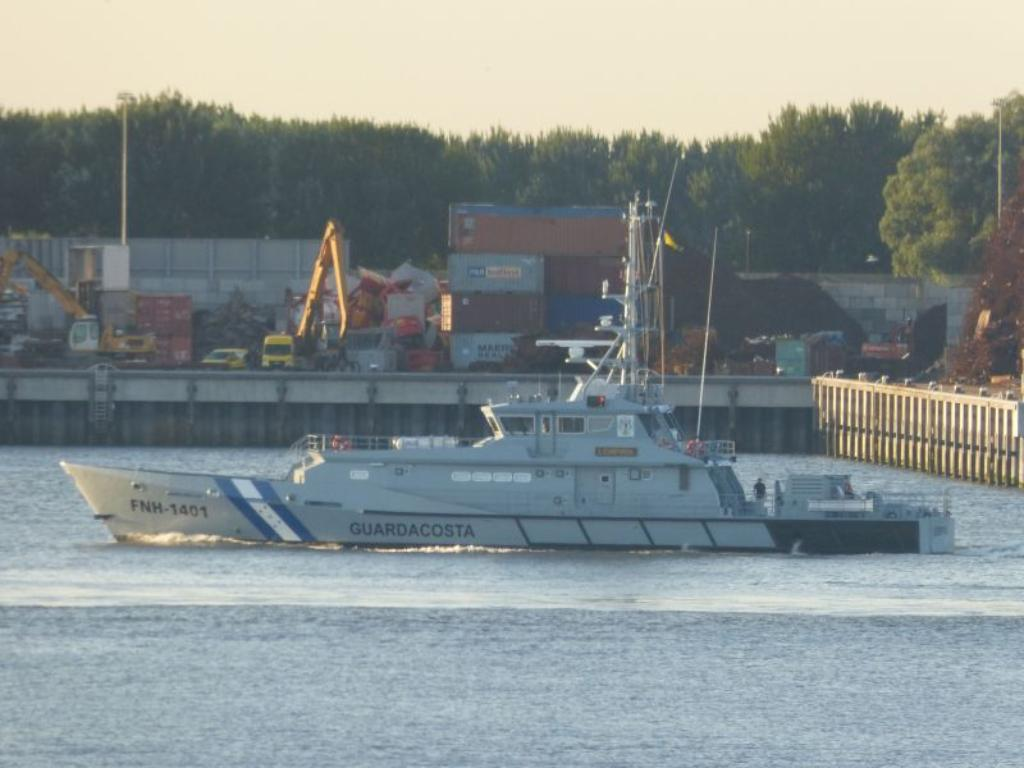Warship: (39, 193, 959, 555)
